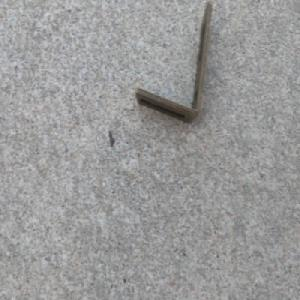MetalPart: (134, 1, 213, 126)
